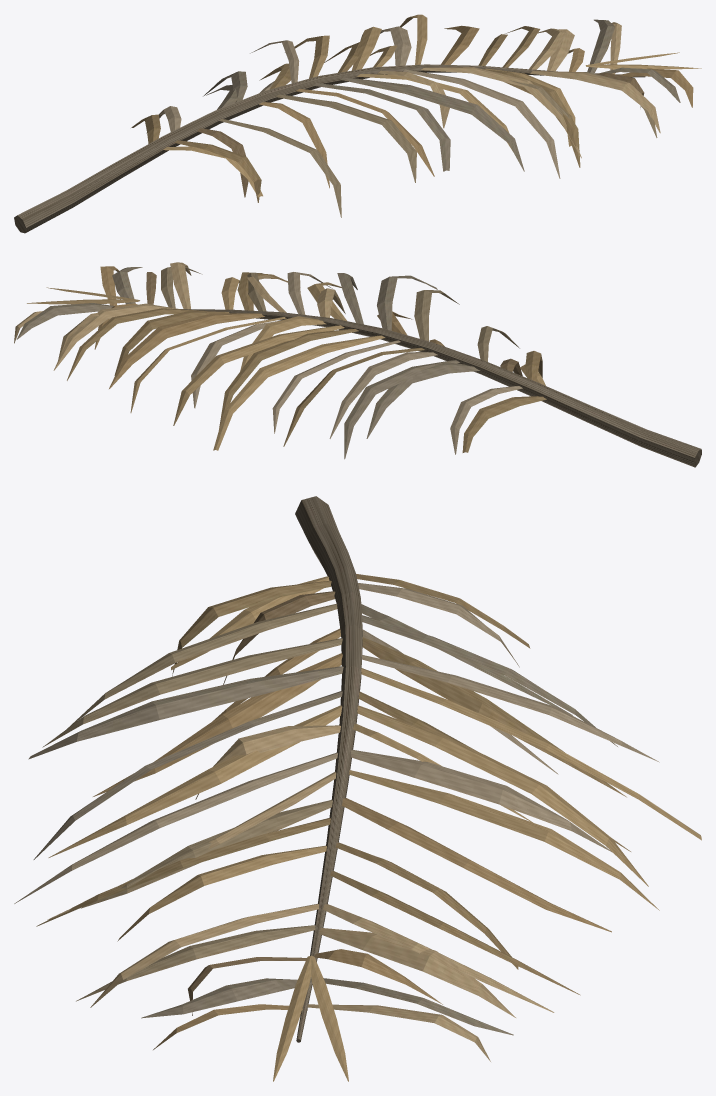
File: nb_frond_long.glb
The picture shows the model from 3 angles, top to bottom: view 1: azimuth 30°, elevation 25°; view 2: azimuth 150°, elevation 25°; view 3: azimuth 270°, elevation 25°; orthographic projection. The views are drawn at different scales.
Visible parts, largest first — view 1: Dry_Palm_Frond_Long; view 2: Dry_Palm_Frond_Long; view 3: Dry_Palm_Frond_Long.
Part boxes in pixels (x1=…): Dry_Palm_Frond_Long: x1=14, y1=14, x2=701, y2=233; Dry_Palm_Frond_Long: x1=14, y1=262, x2=701, y2=467; Dry_Palm_Frond_Long: x1=14, y1=496, x2=701, y2=1081.
Bounding box in the file's own units: 2.87 × 0.3045 × 1.46.
1 material, 1 textured.
